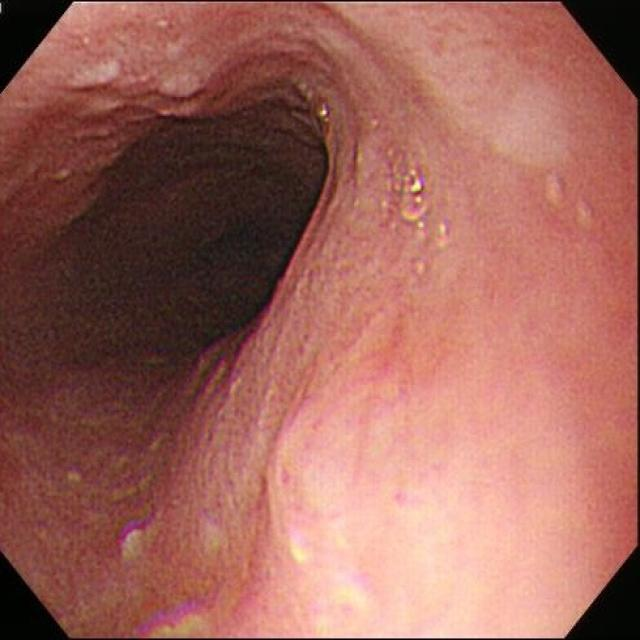E: (121, 106, 333, 339)
J: (63, 62, 127, 95), (153, 65, 208, 98)
T: (397, 164, 429, 225)
